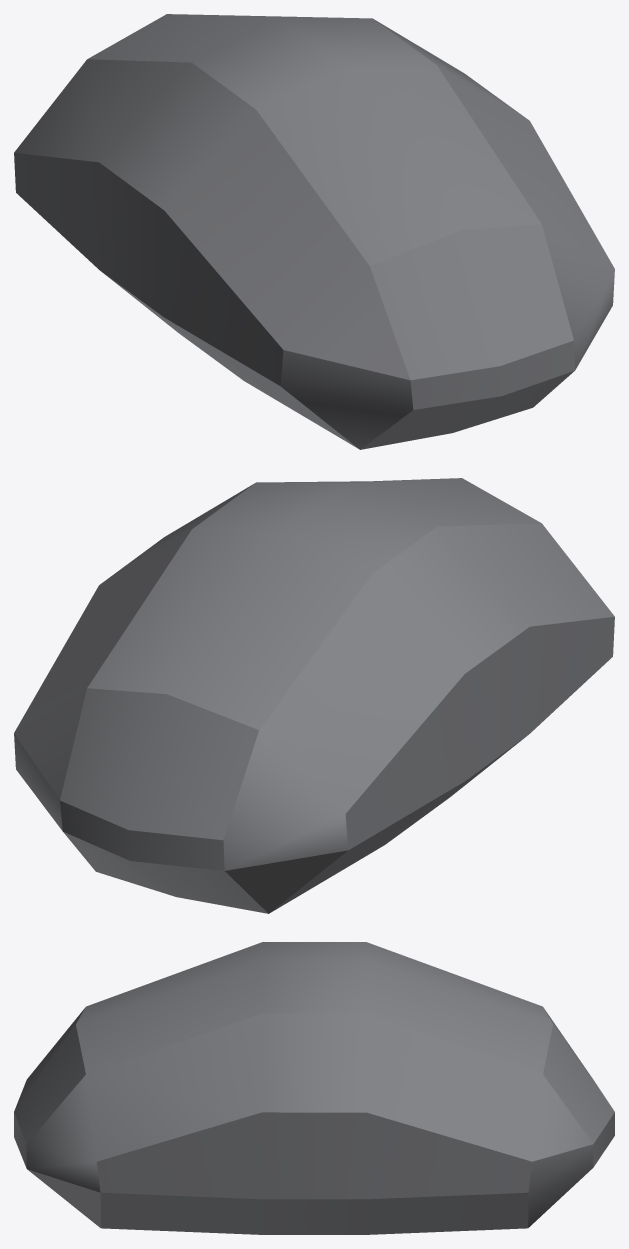
File: mouse.fbx
The picture shows the model from 3 angles, top to bottom: view 1: azimuth 30°, elevation 25°; view 2: azimuth 150°, elevation 25°; view 3: azimuth 270°, elevation 25°; orthographic projection. The views are drawn at different scales.
Visible parts, largest first — view 1: mouse; view 2: mouse; view 3: mouse.
Boxes of the visible parts, x1=… form: mouse: x1=14, y1=14, x2=614, y2=449; mouse: x1=14, y1=478, x2=614, y2=913; mouse: x1=14, y1=942, x2=614, y2=1234.
Bounding box in the file's own units: 8.68 × 6.53 × 15.29.
